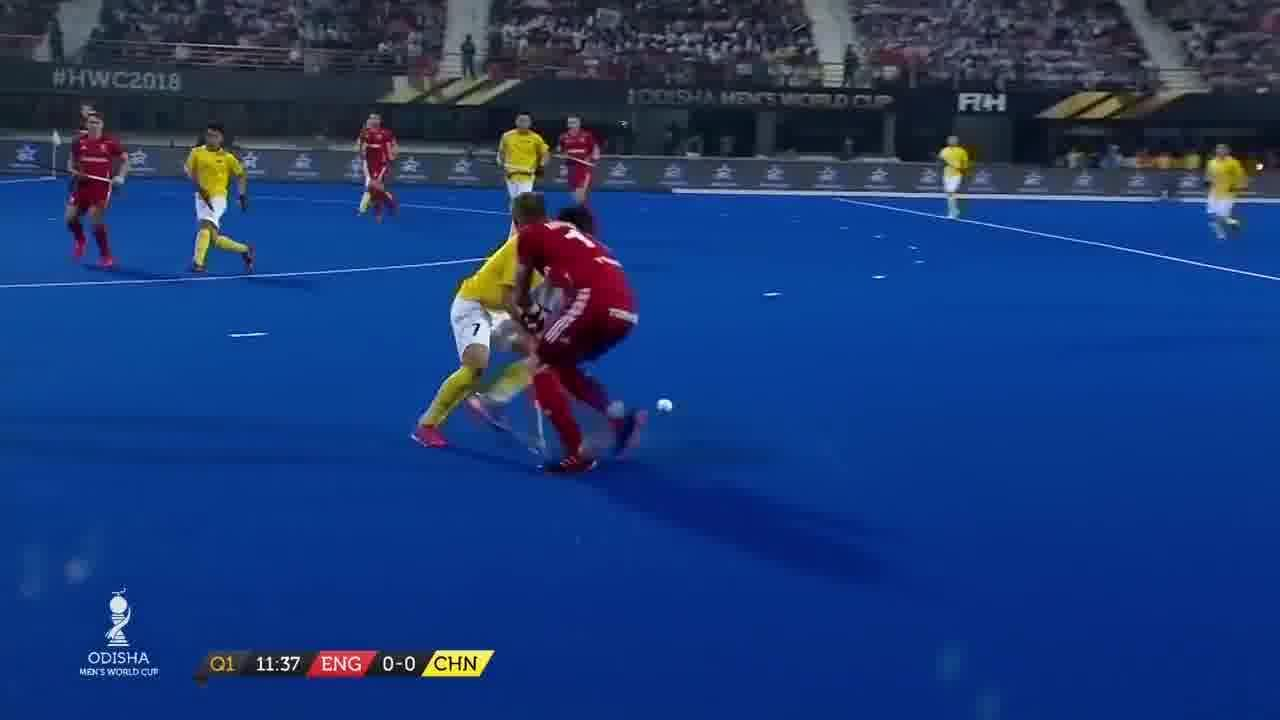ball: (646, 388, 686, 424)
